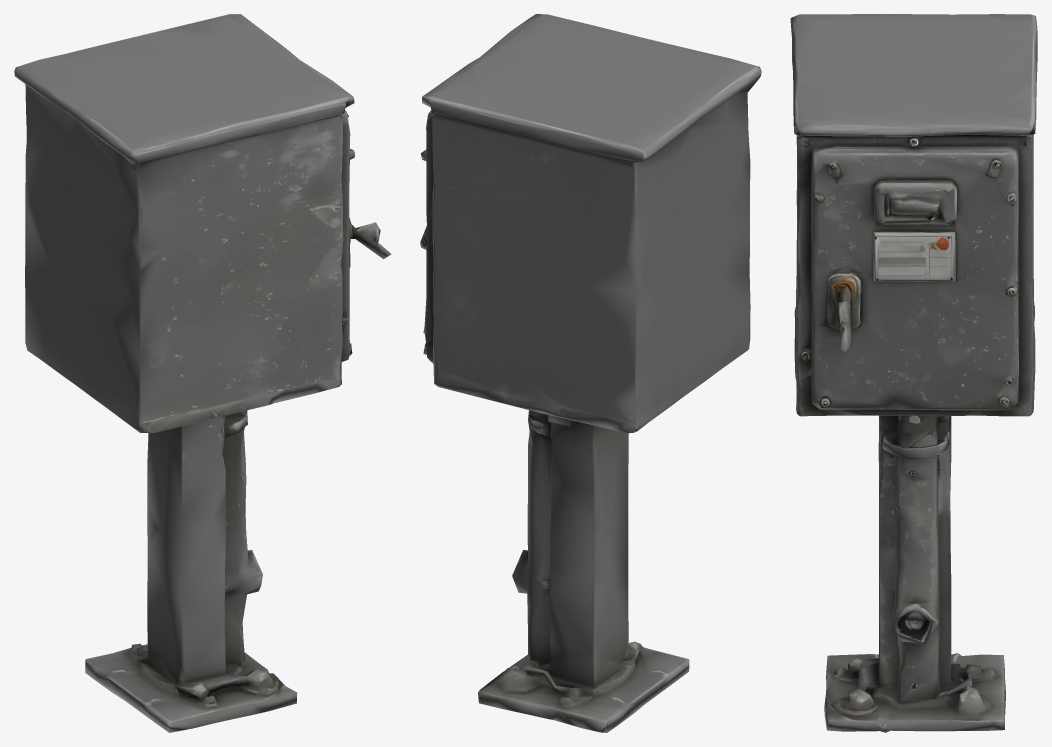
Rendered from breaker_box.glb.
The picture shows the model from 3 angles, left to right: view 1: azimuth 30°, elevation 25°; view 2: azimuth 150°, elevation 25°; view 3: azimuth 270°, elevation 25°; orthographic projection. The views are drawn at different scales.
Parts seen in each view (by area): view 1: breaker_box; view 2: breaker_box; view 3: breaker_box.
Boxes of the visible parts, x1,y1,x2,y2 form: breaker_box: (14, 14, 391, 732); breaker_box: (420, 14, 761, 732); breaker_box: (790, 14, 1037, 732).
Size of the model in its own units: 0.8304 by 1.7 by 0.6056.
1 material, 1 textured.
